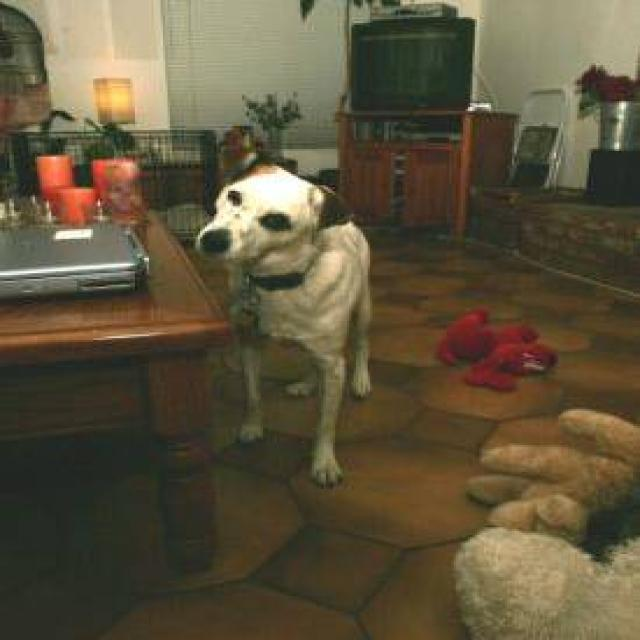Dog: (188, 154, 358, 286)
